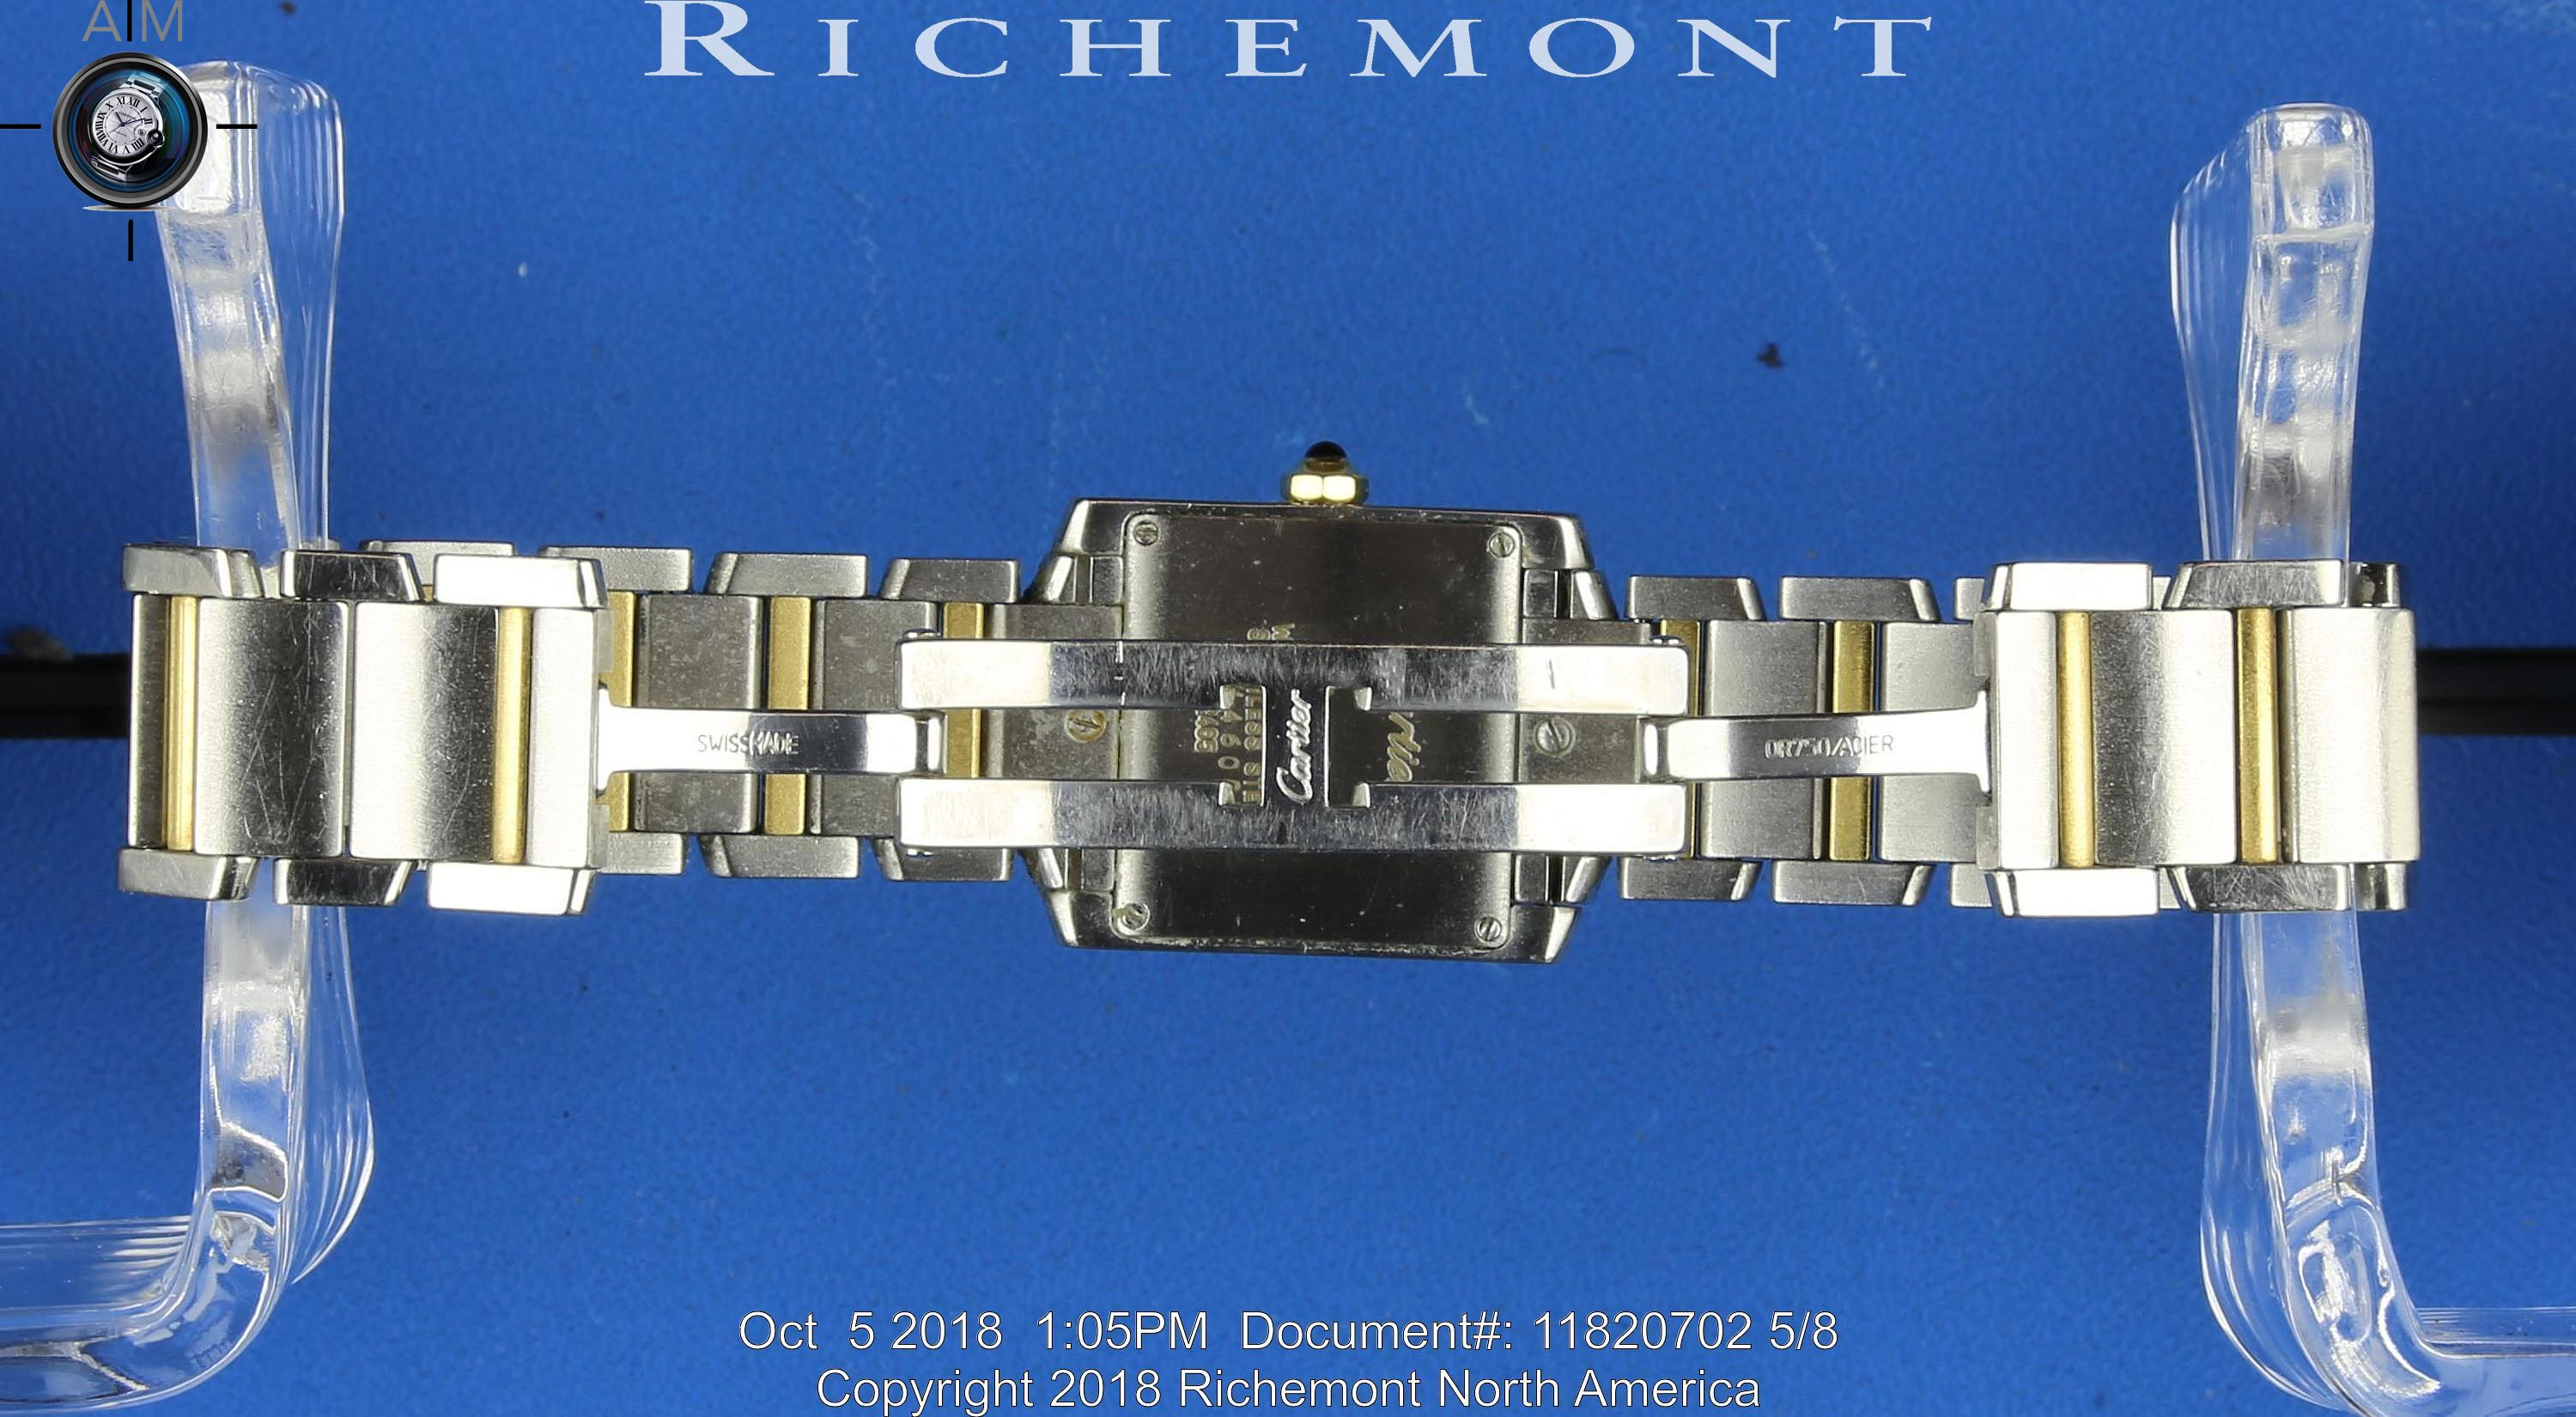watchback: (1097, 515, 1550, 951)
